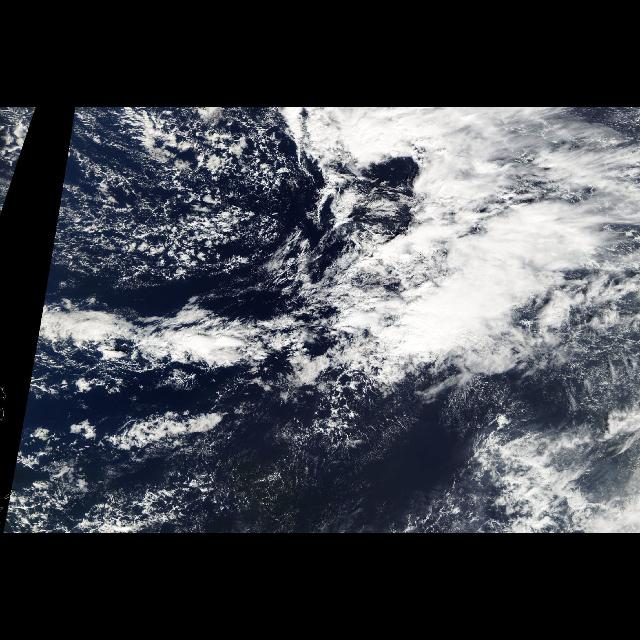Fish: (25, 288, 411, 407)
Gravel: (19, 108, 363, 526), (2, 108, 38, 212)
Sugar: (392, 308, 628, 522)
